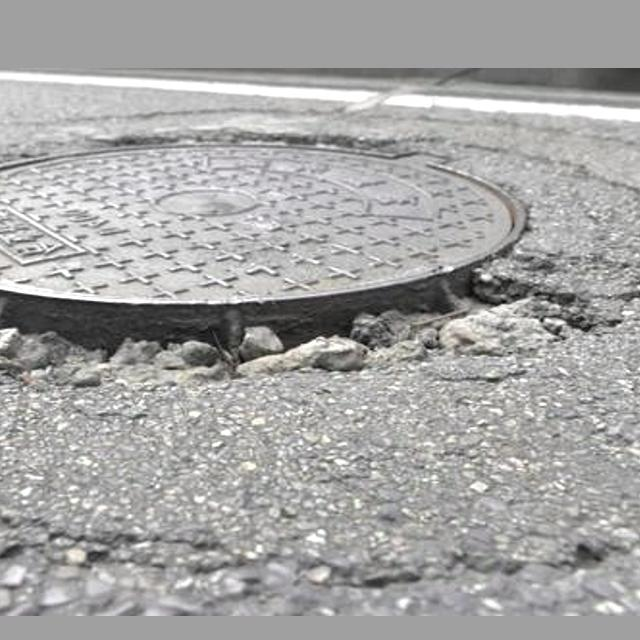circle: (0, 118, 640, 405)
